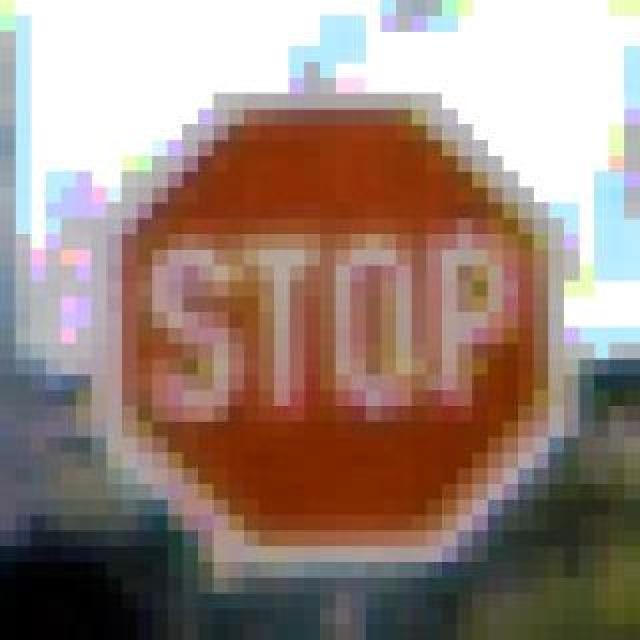stop: (94, 90, 574, 578)
